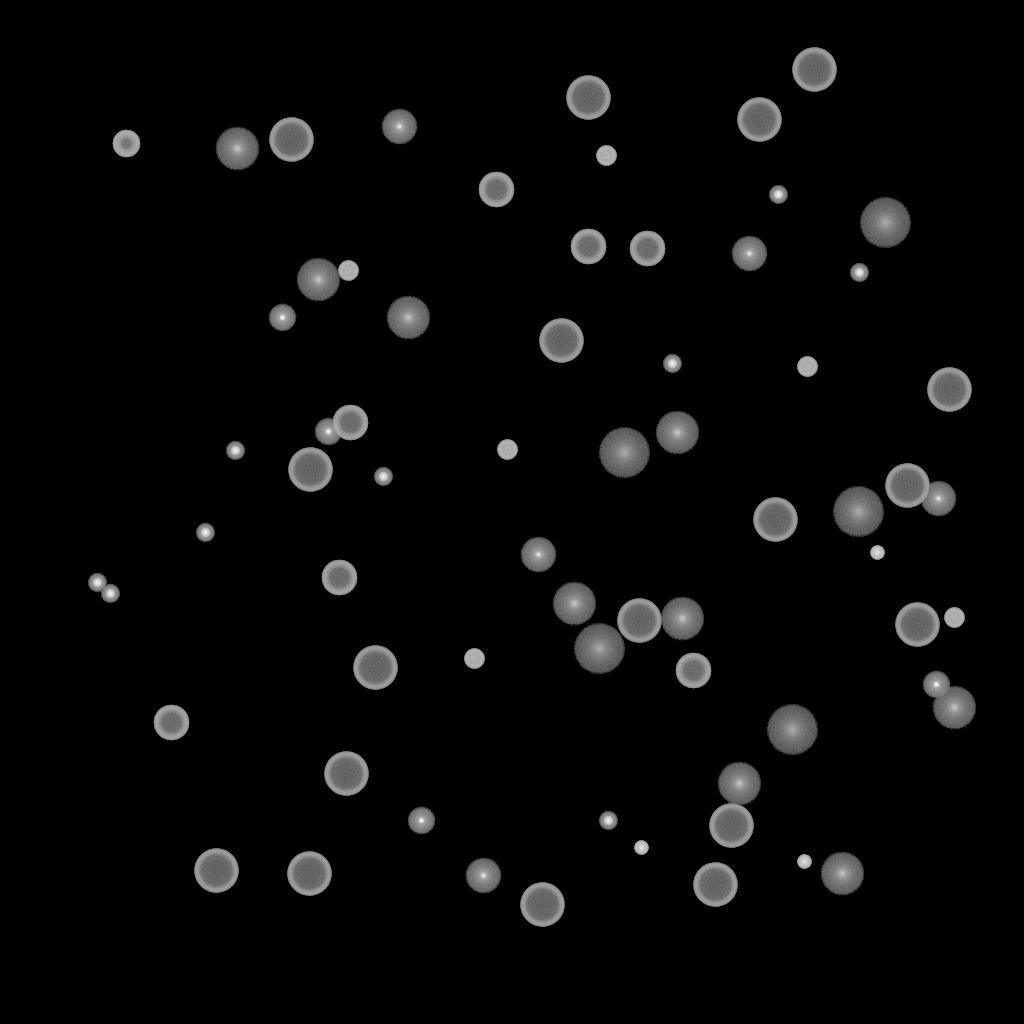depth:-10: (268, 304, 296, 332), (922, 671, 950, 699), (314, 418, 342, 446), (407, 807, 435, 835)
depth:-20: (599, 812, 617, 830), (196, 524, 214, 542), (769, 186, 787, 204), (374, 468, 392, 486), (663, 355, 681, 373), (850, 264, 868, 282), (88, 574, 106, 592), (101, 585, 119, 603), (226, 442, 244, 460)
depth:-30: (634, 841, 648, 855), (797, 855, 811, 869), (870, 546, 884, 560)
depth:-40: (944, 608, 964, 628), (464, 649, 484, 669), (596, 146, 616, 166), (497, 440, 517, 460), (797, 357, 817, 377), (338, 261, 358, 281)
depth:-50: (112, 130, 140, 158)
depth:-60: (321, 560, 357, 596), (478, 172, 514, 208), (153, 705, 189, 741), (332, 405, 368, 441), (570, 229, 606, 265), (675, 653, 711, 689), (629, 231, 665, 267)
depth:-70: (709, 804, 753, 848), (792, 48, 836, 92), (895, 603, 939, 647), (287, 852, 331, 896), (324, 752, 368, 796), (617, 599, 661, 643), (539, 319, 583, 363), (927, 368, 971, 412), (753, 498, 797, 542), (269, 118, 313, 162), (288, 448, 332, 492), (566, 76, 610, 120), (520, 883, 564, 927), (353, 646, 397, 690), (737, 98, 781, 142), (693, 863, 737, 907), (194, 849, 238, 893), (885, 464, 929, 508)
depth:0: (381, 109, 417, 145), (520, 537, 556, 573), (465, 858, 501, 894), (731, 236, 767, 272), (920, 481, 956, 517)
depth:10: (386, 296, 430, 340), (717, 762, 761, 806), (215, 127, 259, 171), (932, 686, 976, 730), (820, 852, 864, 896), (660, 597, 704, 641), (552, 582, 596, 626), (655, 411, 699, 455), (296, 258, 340, 302)
depth:20: (859, 198, 911, 248), (598, 428, 650, 478), (766, 705, 818, 755), (573, 624, 625, 674), (832, 487, 884, 537)
